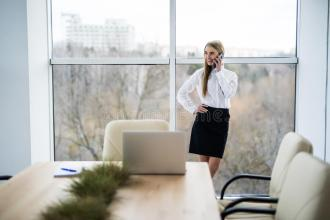phone: (213, 54, 226, 65)
